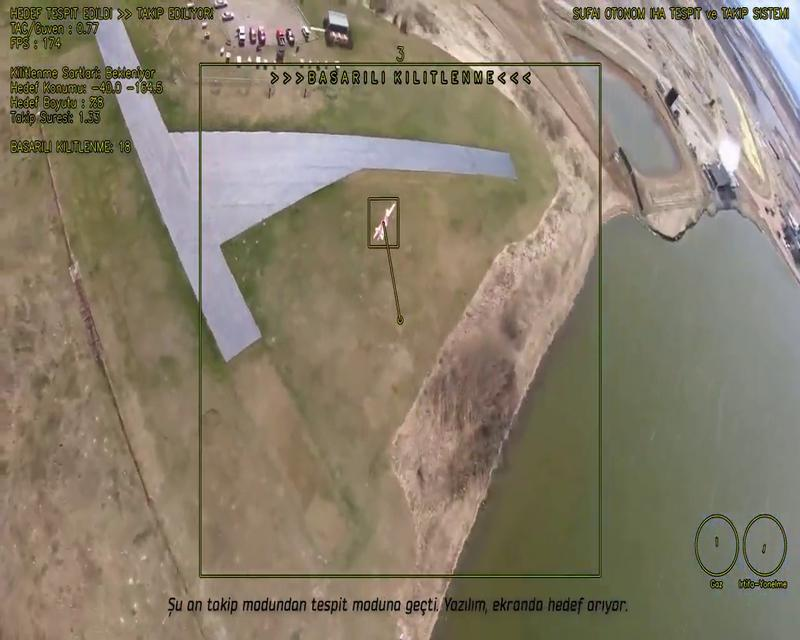UAV: (372, 203, 396, 241)
